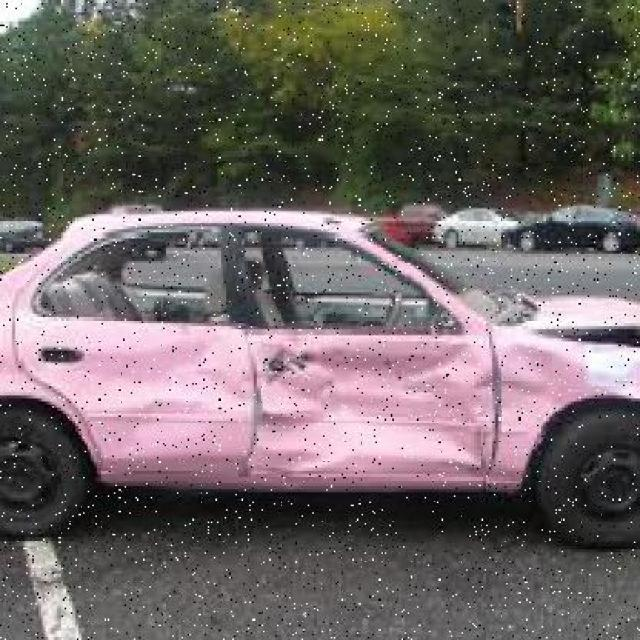car damage: (282, 342, 481, 441), (138, 327, 255, 411), (257, 418, 341, 487), (510, 345, 571, 407)
